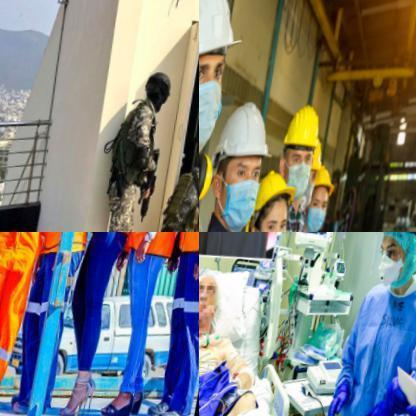vest: (331, 288, 415, 415), (0, 232, 62, 382), (108, 110, 164, 189), (131, 232, 193, 270), (41, 232, 109, 264), (165, 166, 198, 231)
